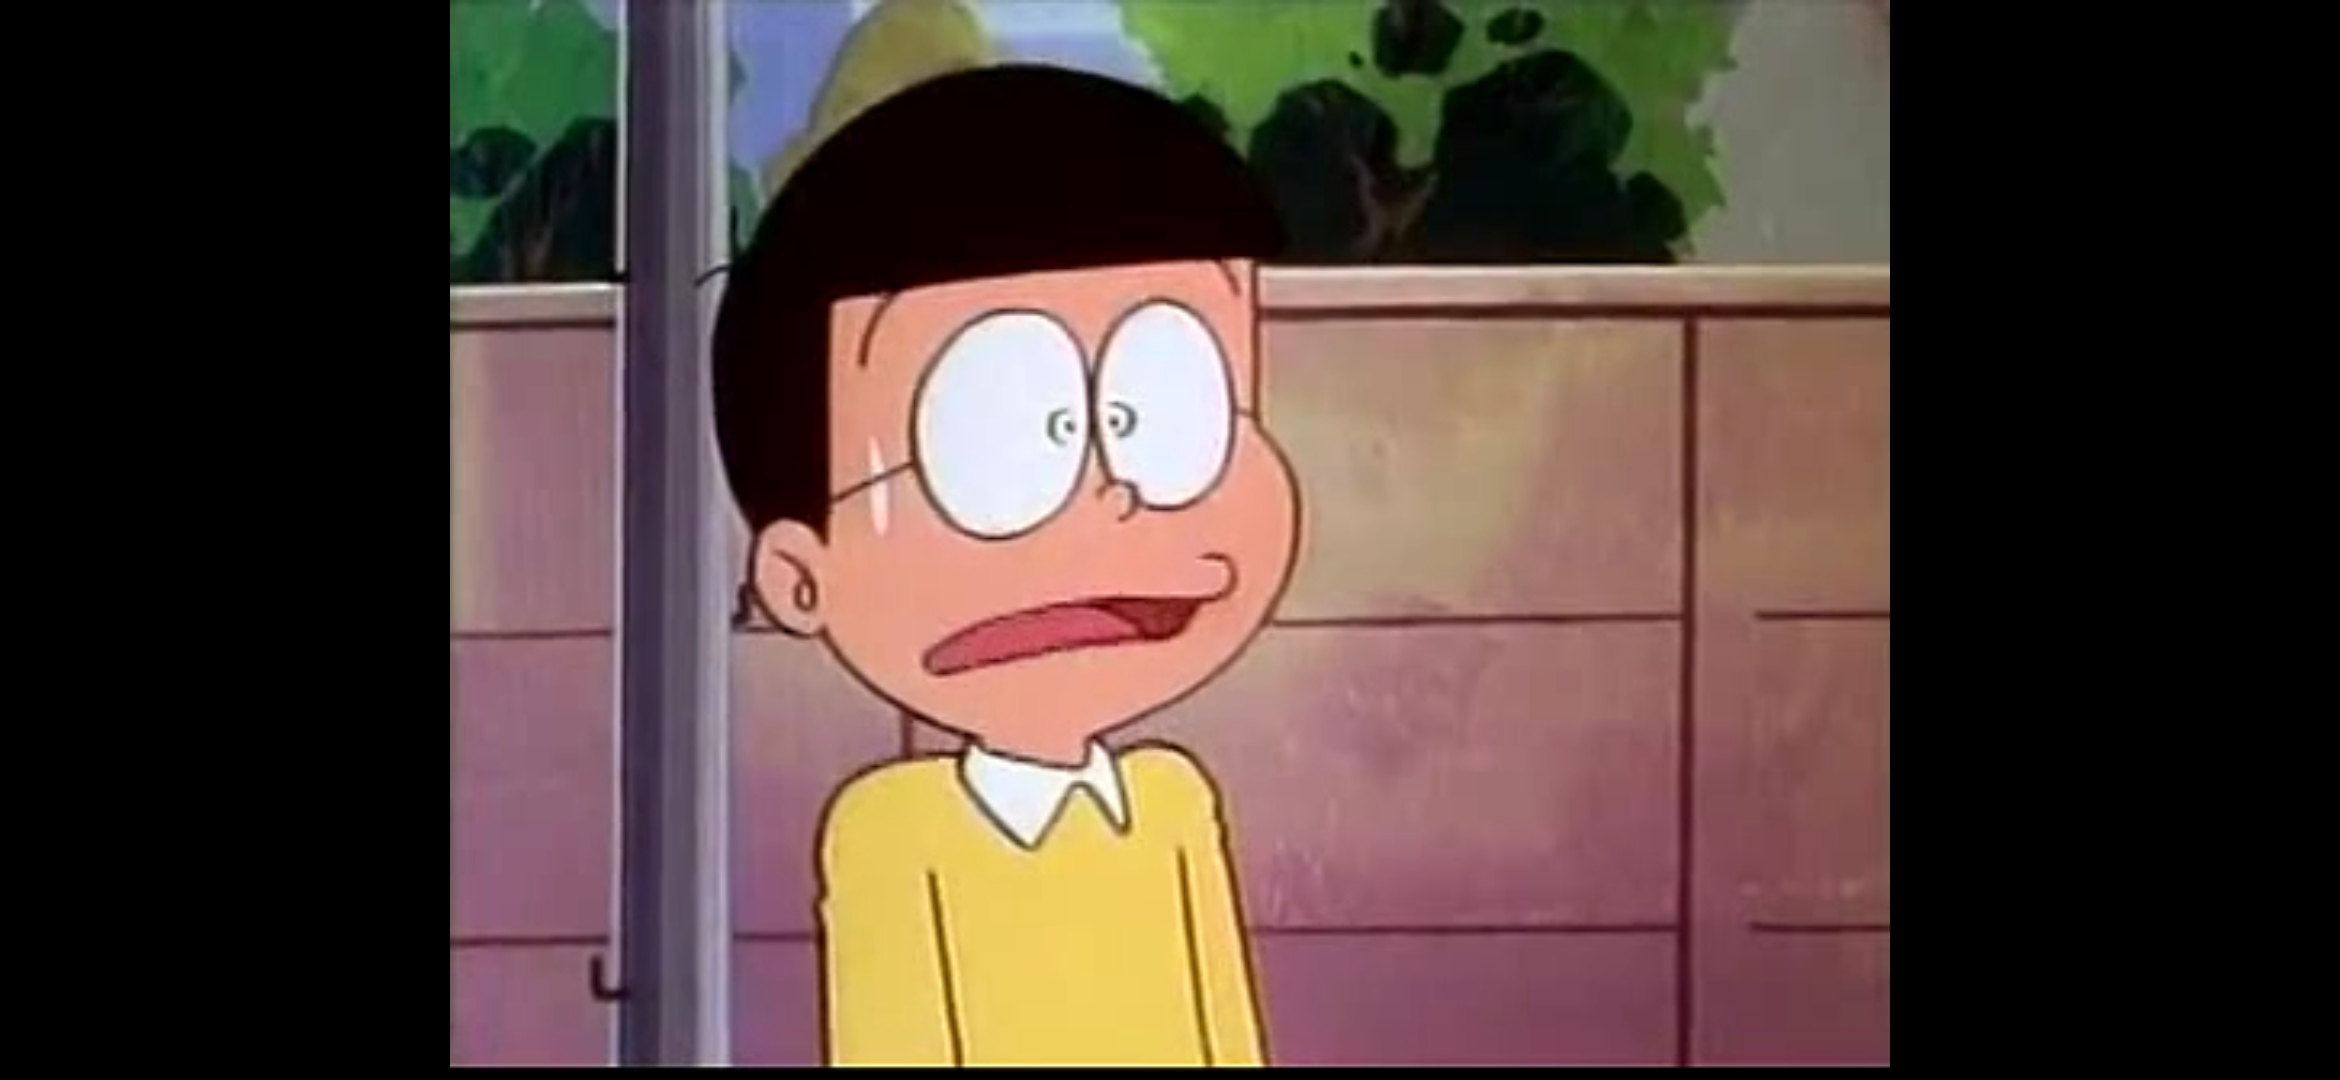Nobi: (710, 63, 1298, 735)
